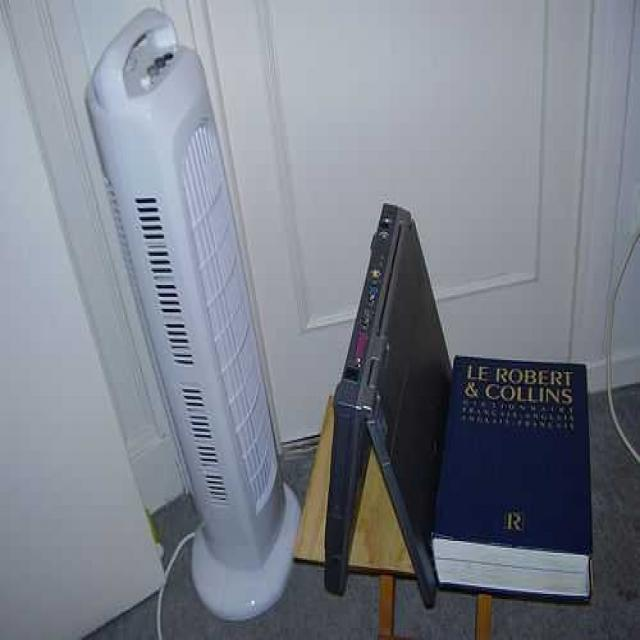laptop: (305, 223, 453, 599)
